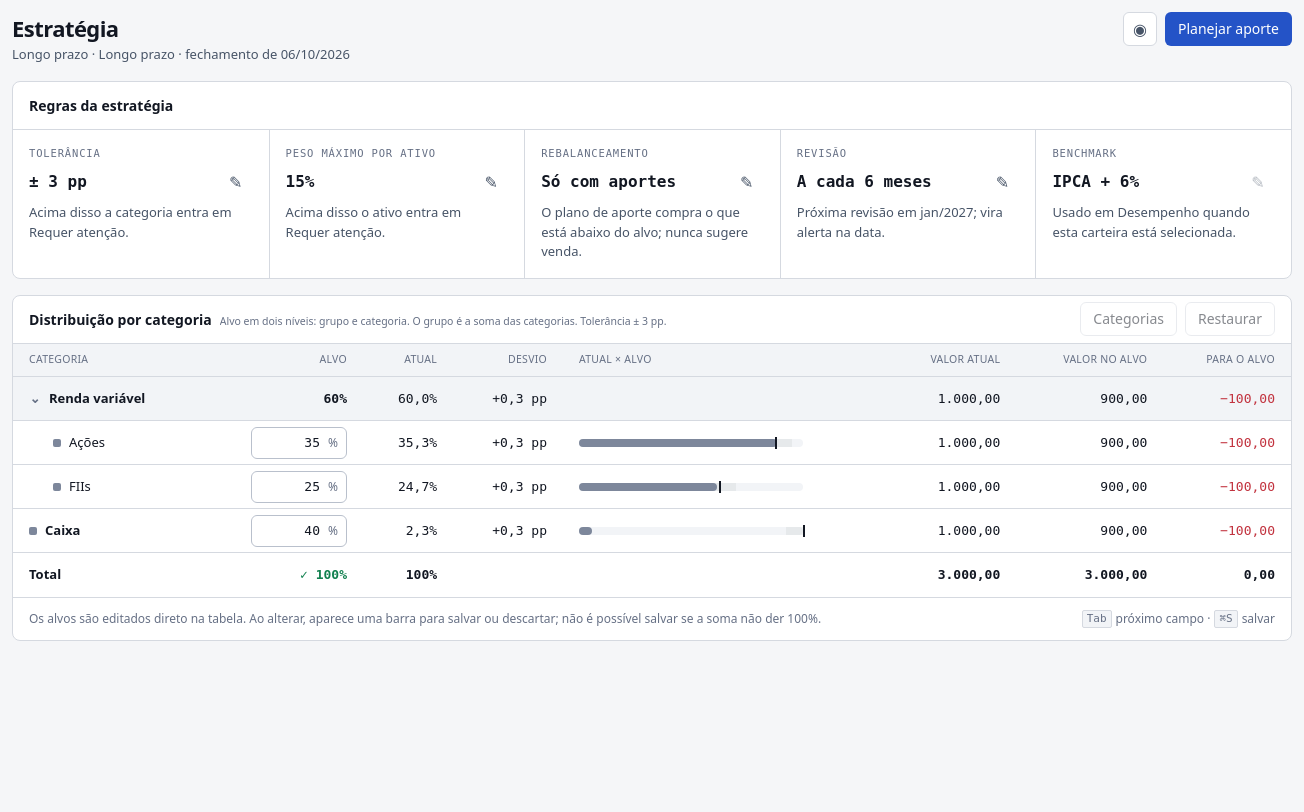
editar e salvar › descartar volta ao salvo e some com a barra
Step 1. Replace the text in the field named "Alvo de Ações" with "10" → (290, 443), box [252,433,328,452]
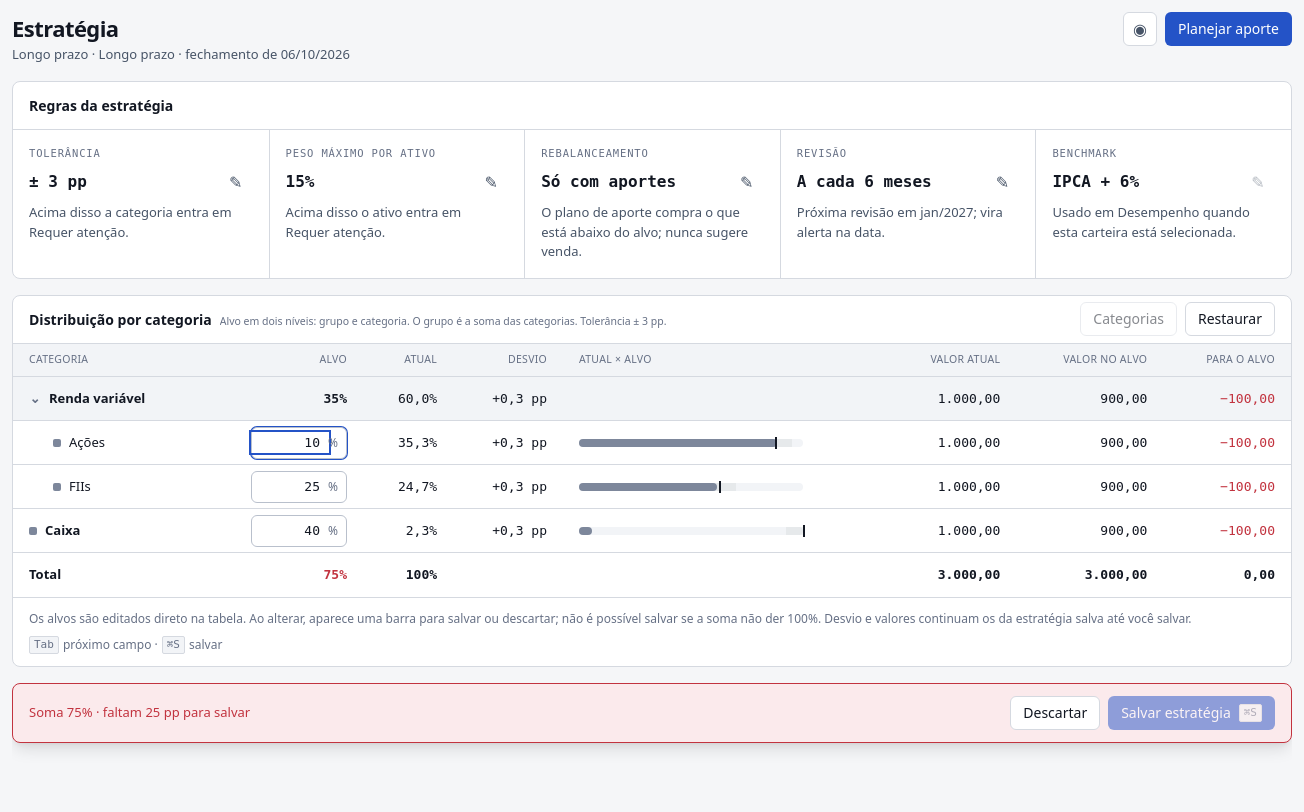
Step 2. Click the button "Descartar" → (1055, 713), box [1010,696,1100,730]
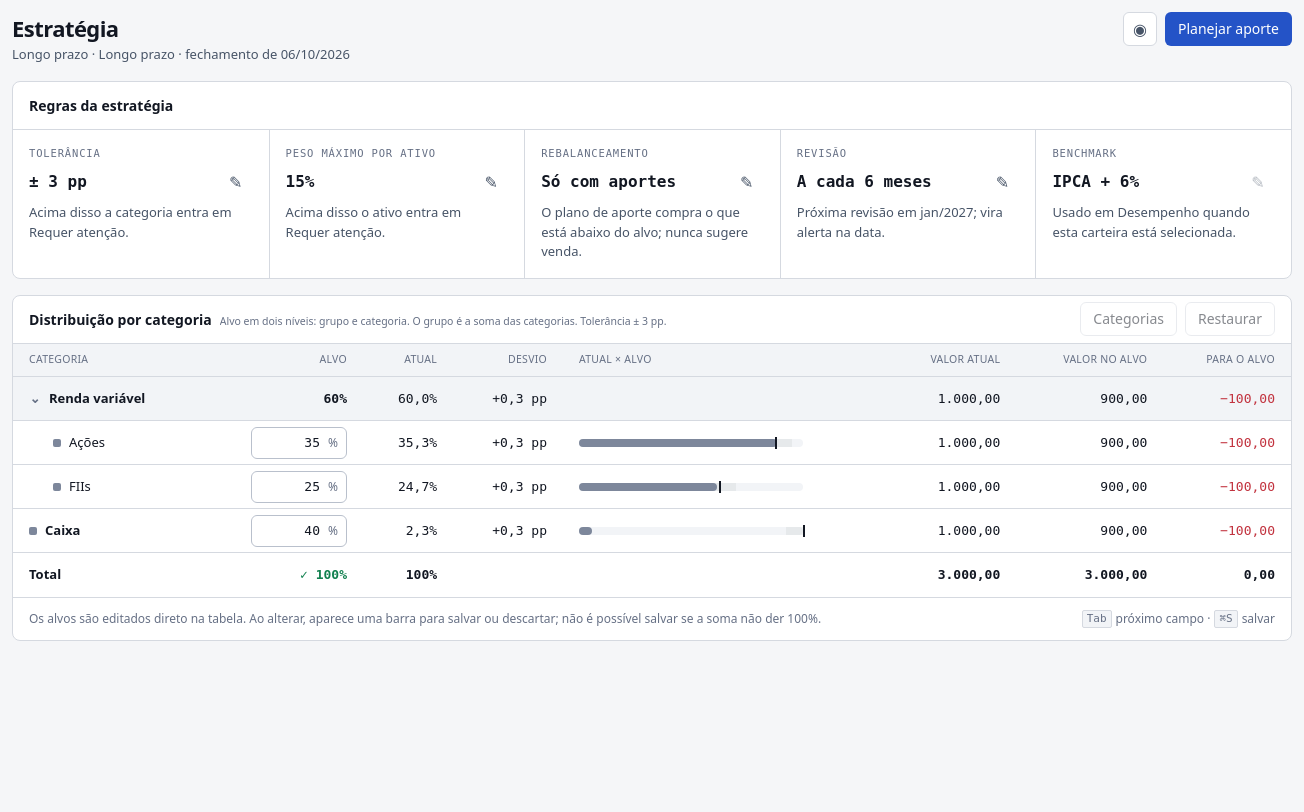
Check: the field named "Alvo de Ações" holds "35", box [252,433,328,452]
